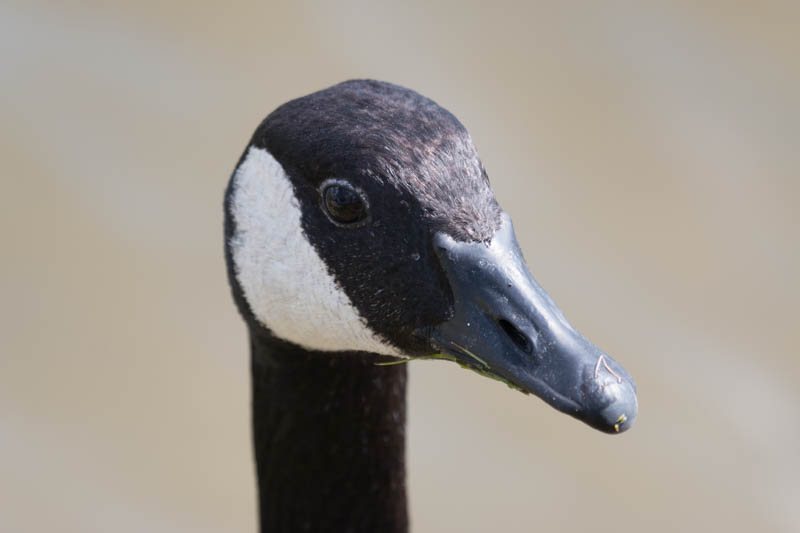goose-head: (224, 79, 639, 436)
